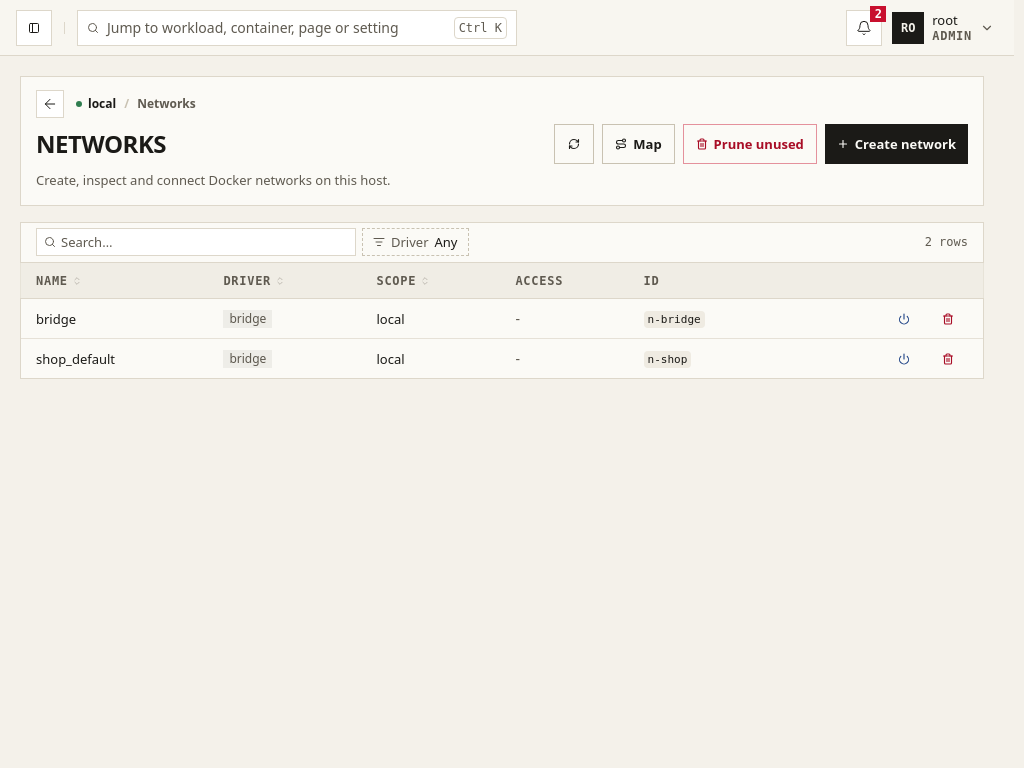
Test: networks page › creates a network with IPAM
The width and height of the screenshot is (1024, 768).
Click the button "Create network" at (896, 144), box [825,124,968,164]
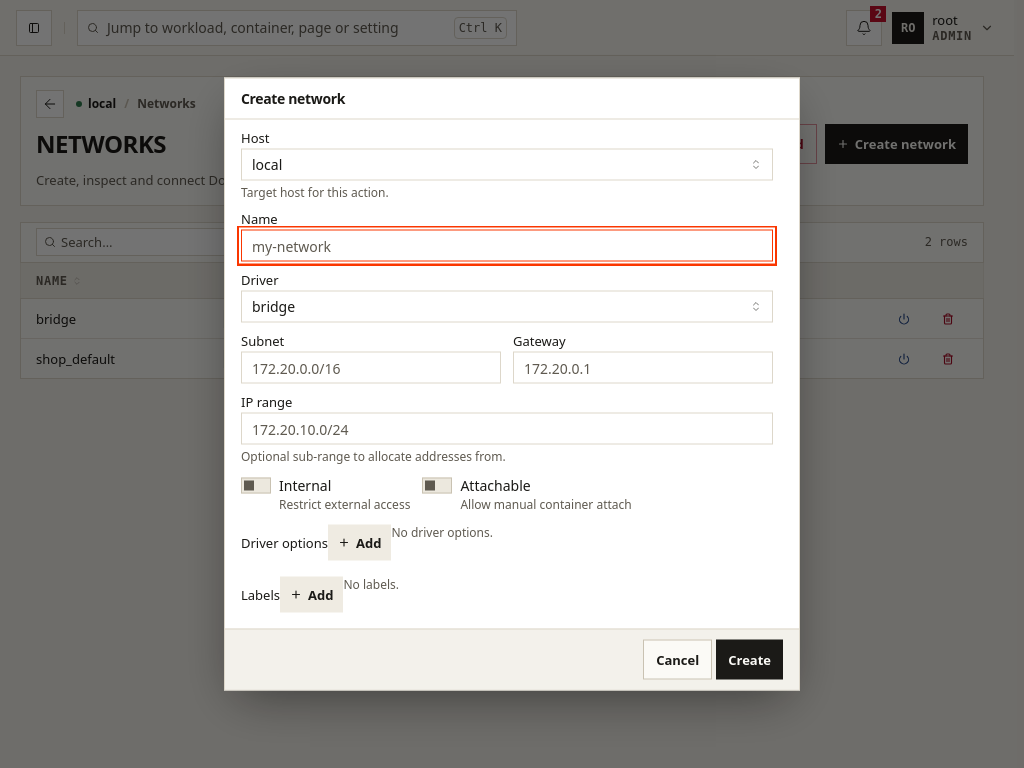
Type "front" into the field labelled "Name" at (507, 246), box [241,230,773,262]
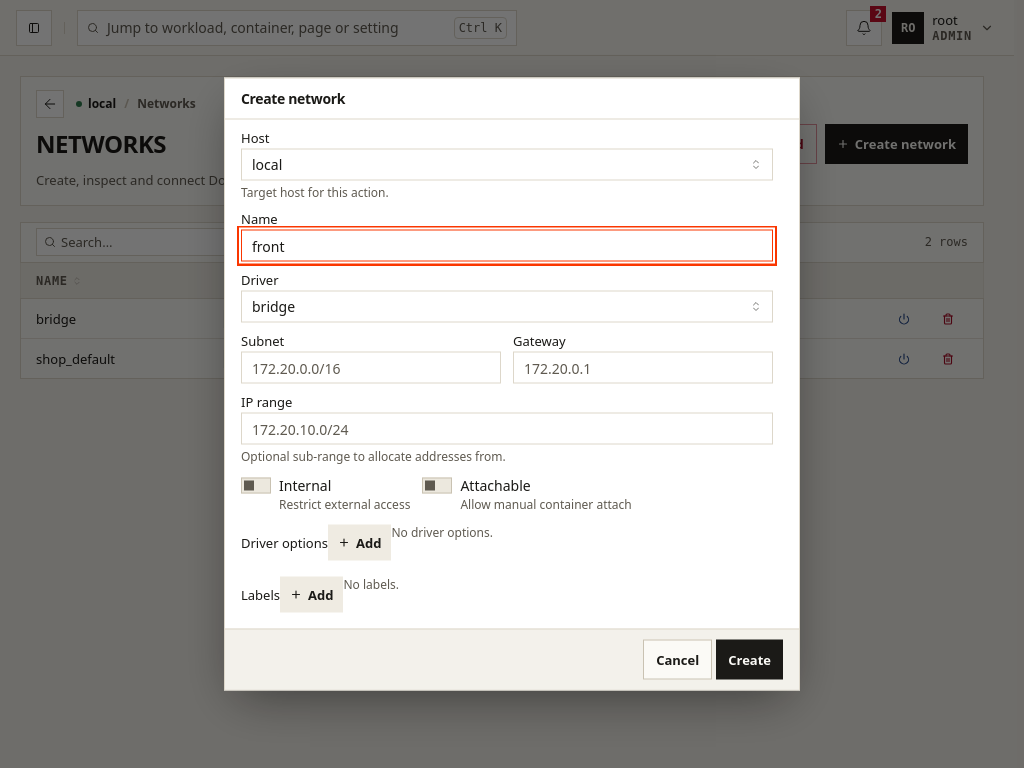
Type "10.10.0.0/24" into the field labelled "Subnet" at (371, 368), box [241,352,501,384]
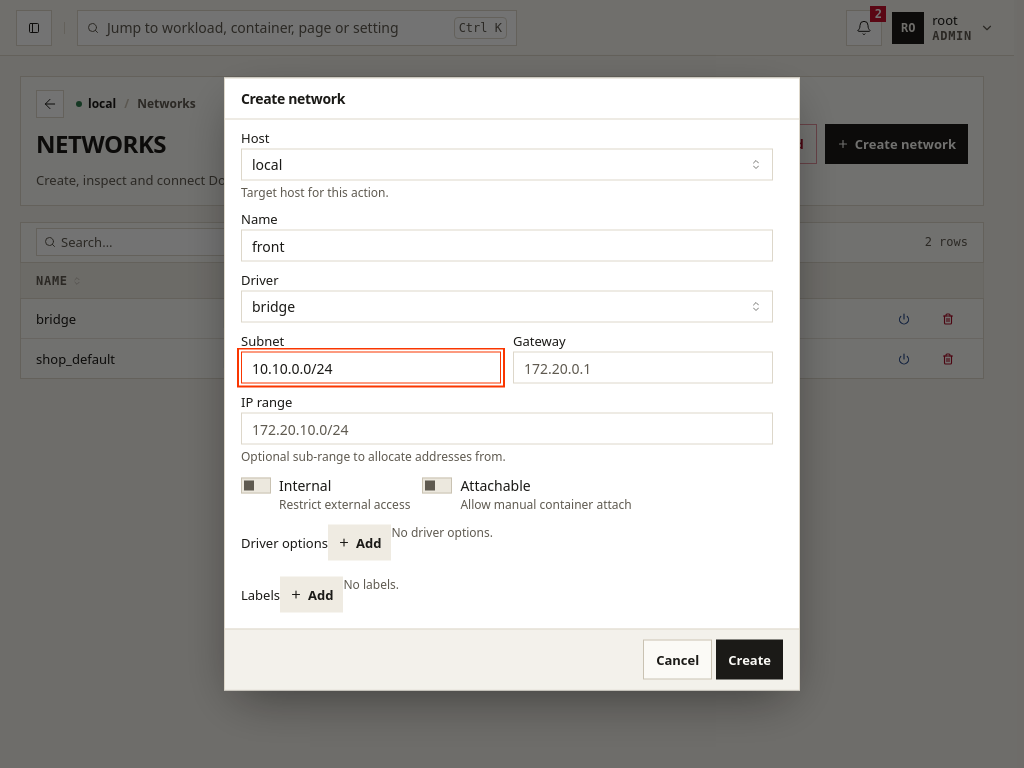
Type "10.10.0.1" into the field labelled "Gateway" at (643, 368), box [513,352,773,384]
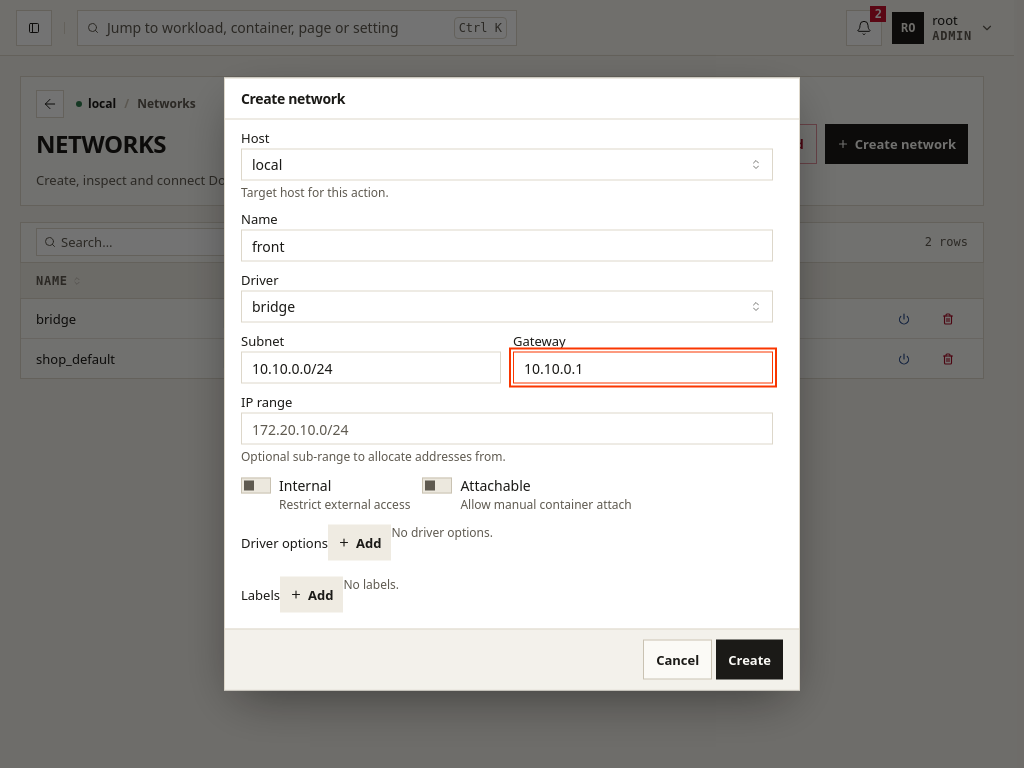
Click the switch labelled "Internal Restrict external access" at (326, 494), box [241,476,410,512]
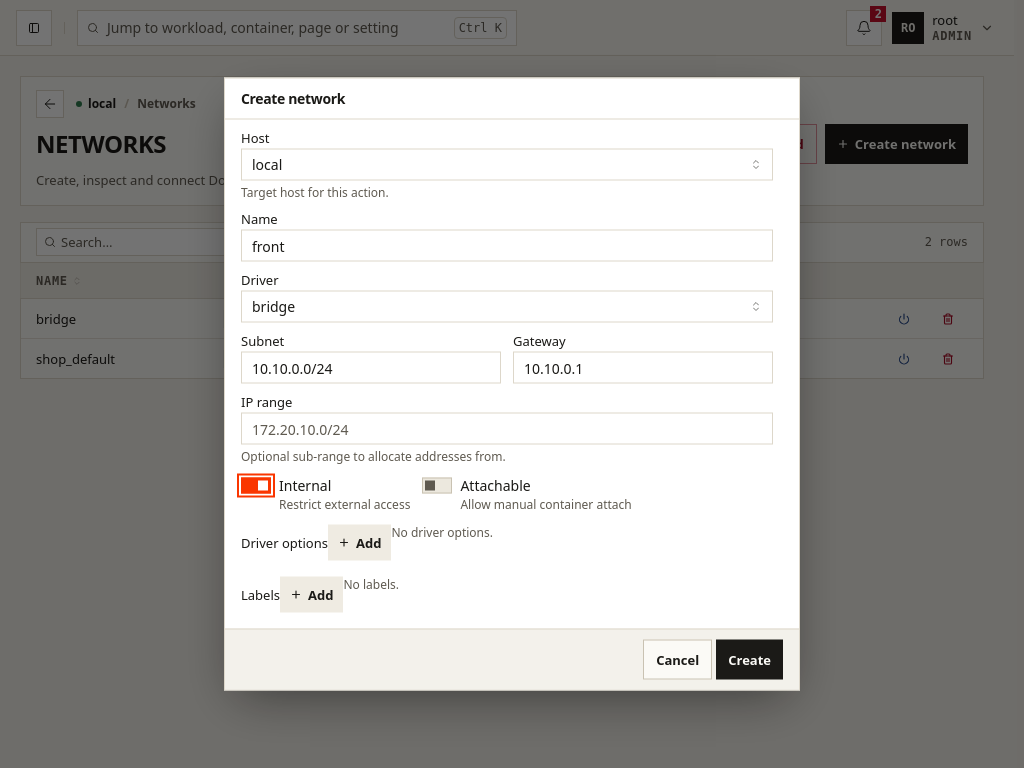
Click the button "Create" at (750, 660), box [716,640,783,680]
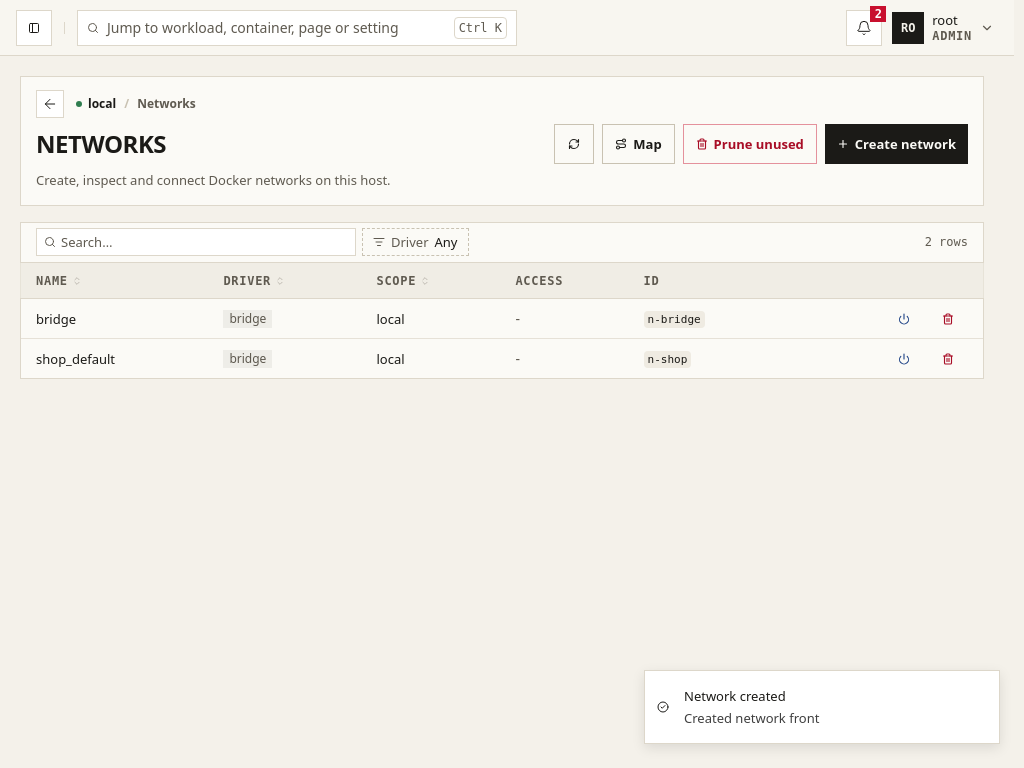
expect the text "Network created" is shown: met, box [684,687,786,705]
